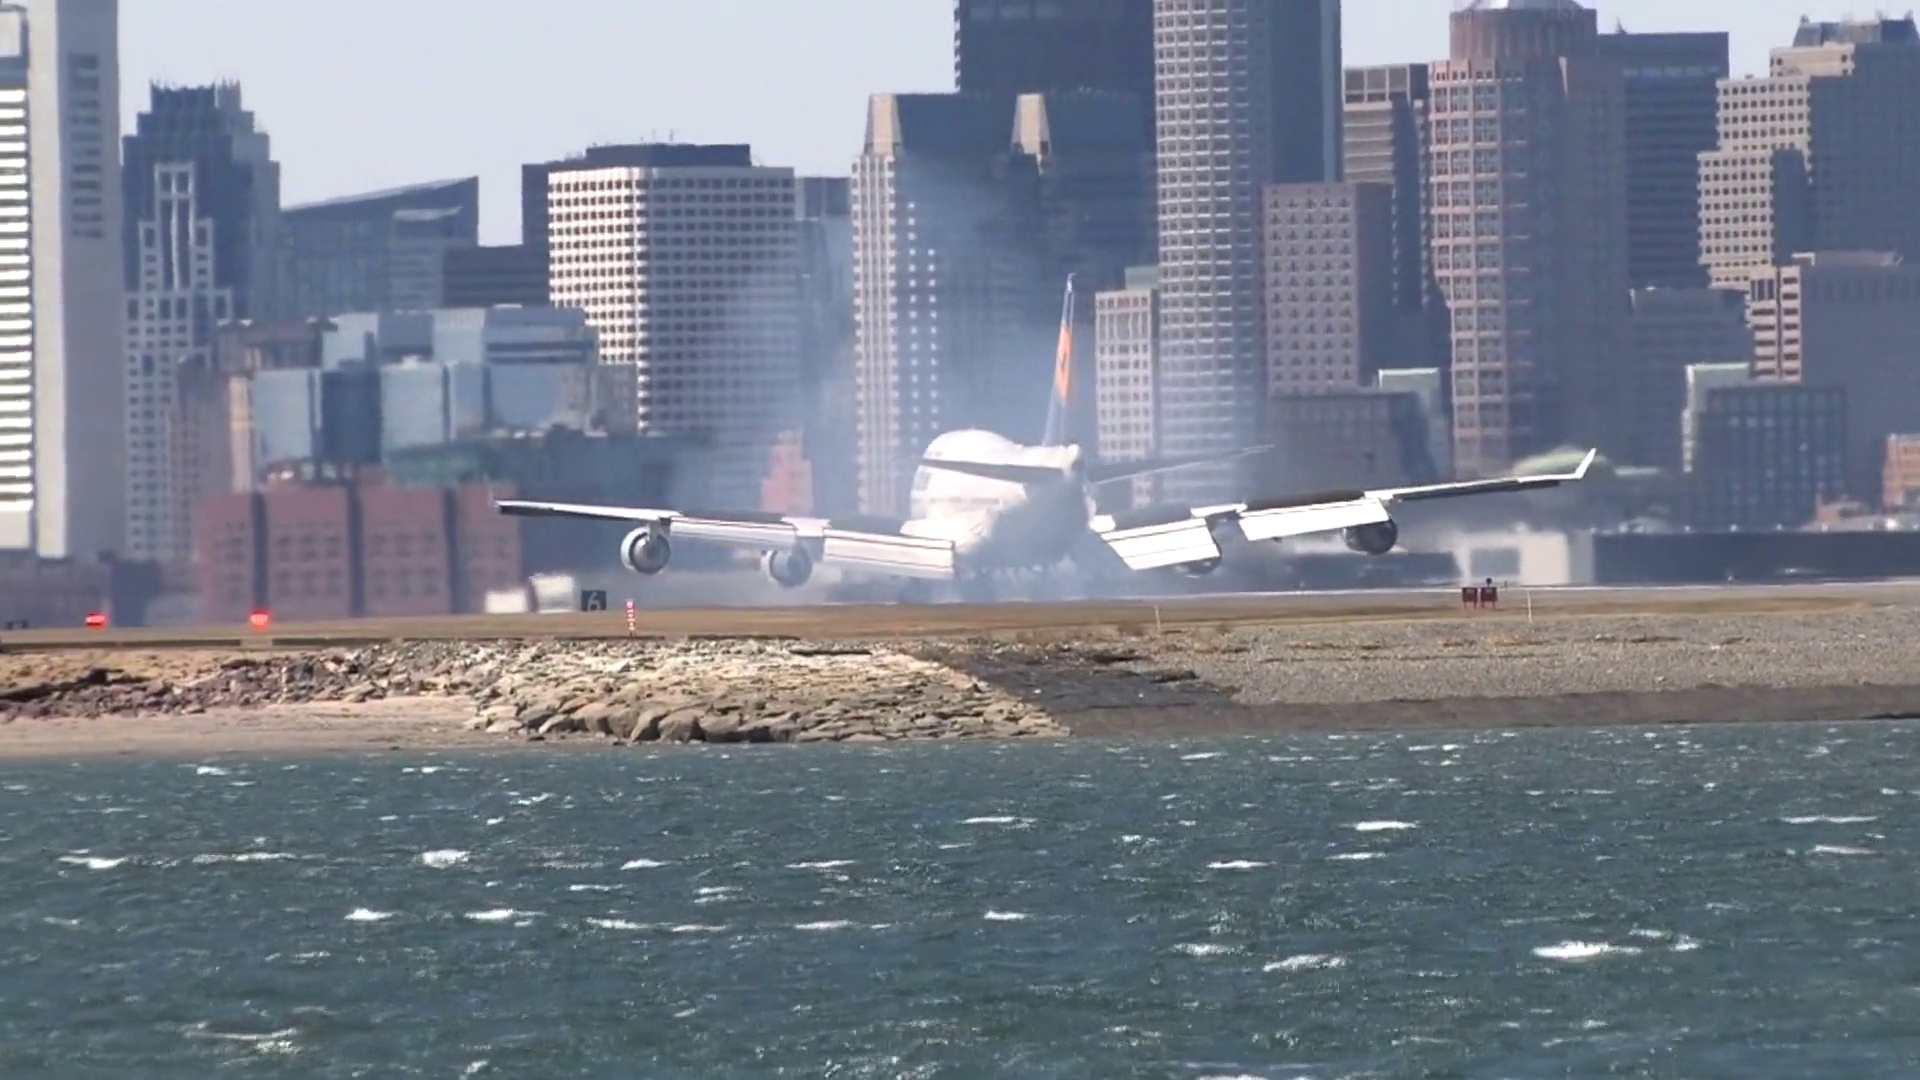plane: (495, 273, 1596, 591)
